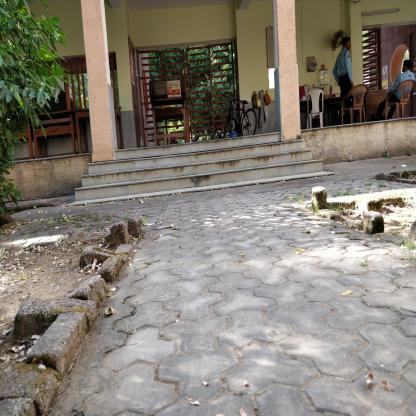stairs: (118, 148, 313, 185)
